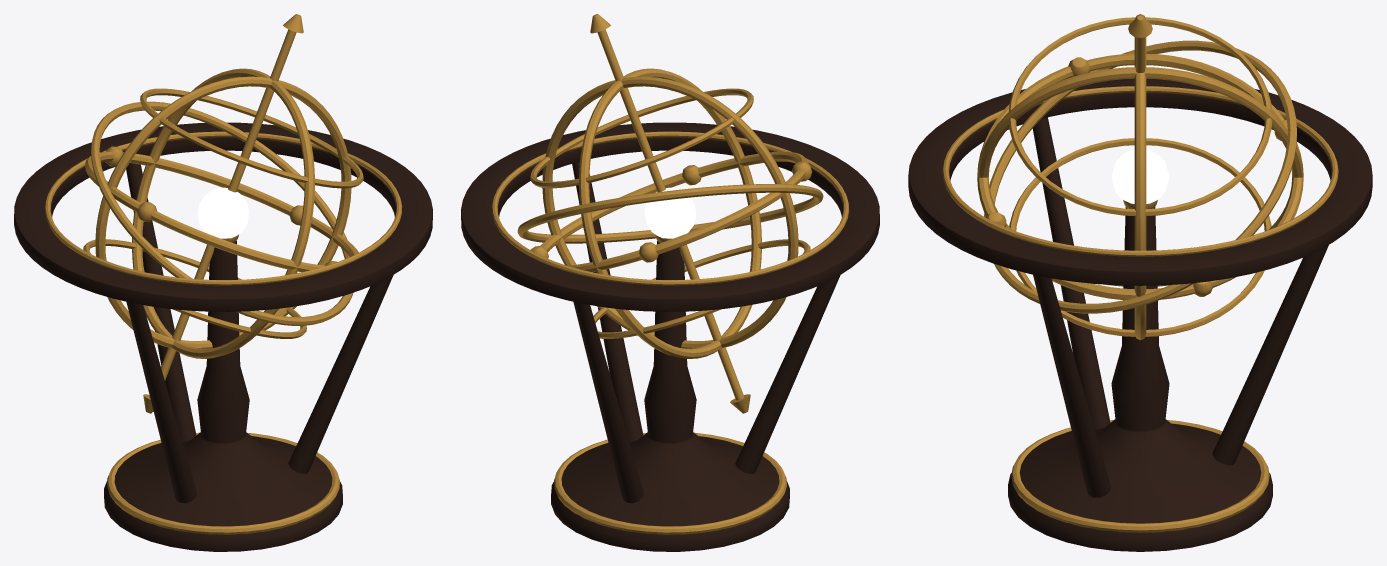
Rendered from prop_globe.glb.
3 views of the same model, side by side, from view 1: azimuth 30°, elevation 25°; view 2: azimuth 150°, elevation 25°; view 3: azimuth 270°, elevation 25° (orthographic). The views are drawn at different scales.
Visible parts, largest first — view 1: prop_globe; view 2: prop_globe; view 3: prop_globe.
Part boxes in pixels (x1,y1,x2,y2): prop_globe: (14,14,432,551); prop_globe: (461,14,879,551); prop_globe: (908,14,1372,551).
Size of the model in its own units: 1.12 by 1.39 by 1.12.
